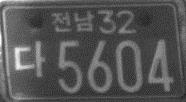0: (114, 39, 143, 93)
2: (117, 8, 135, 35)
3: (96, 8, 115, 34)
4: (146, 38, 174, 93)
5: (56, 39, 83, 94)
6: (87, 37, 113, 94)
다: (14, 38, 45, 79)
전남_O: (50, 9, 95, 33)
